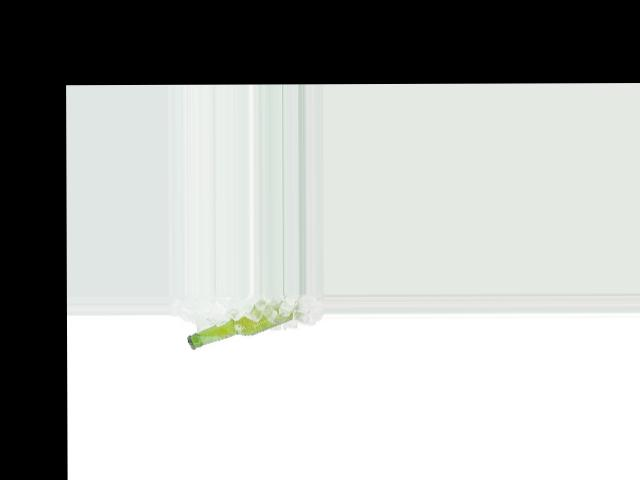beer: (185, 308, 300, 348)
